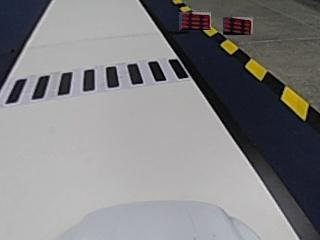crosswalk: (1, 58, 185, 105)
